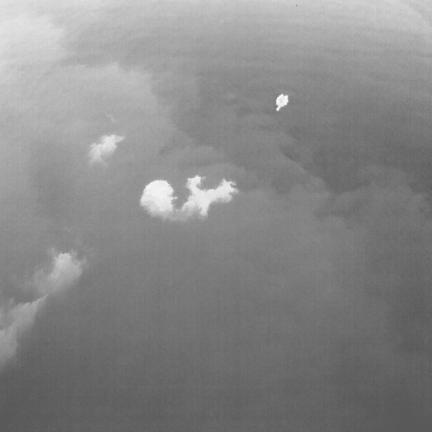flukeprints: (181, 176, 237, 216), (140, 180, 176, 218), (51, 252, 82, 278), (97, 135, 124, 157), (275, 94, 288, 111)
